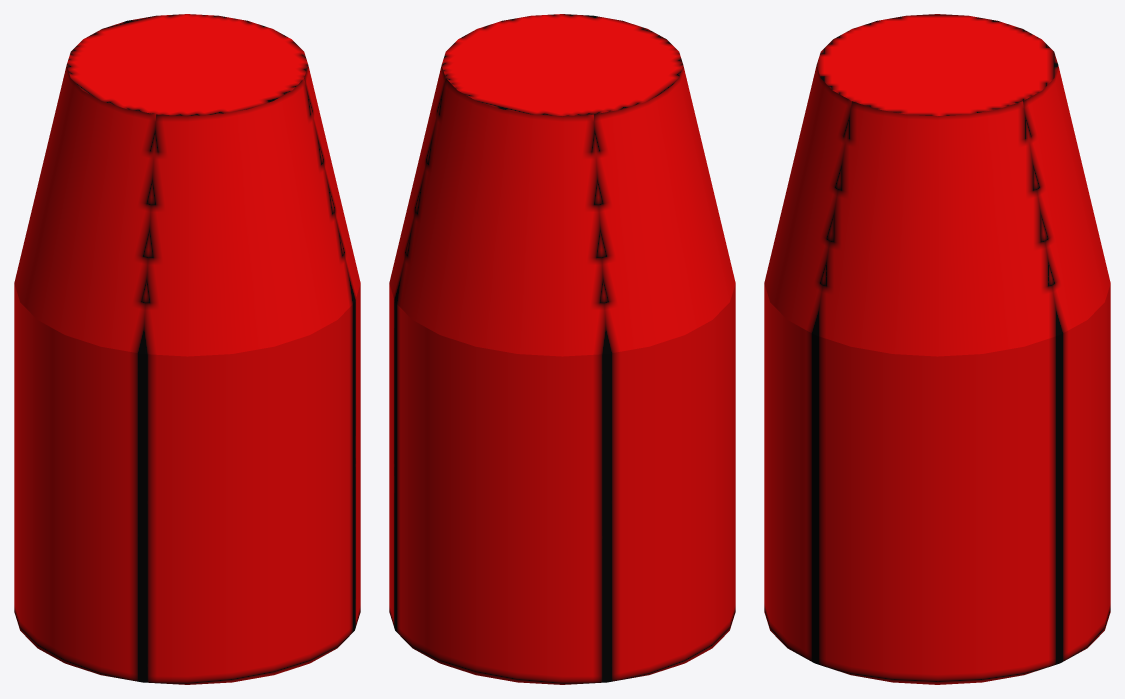
Rendered from Alniyat_Habitation_1_Interior.obj.
3 renders of one model, left to right at view 1: azimuth 30°, elevation 25°; view 2: azimuth 150°, elevation 25°; view 3: azimuth 270°, elevation 25°, orthographic.
Visible parts, largest first — view 1: Alniyat_Habitation_1_Interior; view 2: Alniyat_Habitation_1_Interior; view 3: Alniyat_Habitation_1_Interior.
Boxes of the visible parts, <box> form: Alniyat_Habitation_1_Interior: <box>14,14,360,684</box>; Alniyat_Habitation_1_Interior: <box>389,14,735,684</box>; Alniyat_Habitation_1_Interior: <box>764,14,1110,684</box>.
Bounding box in the file's own units: 1.22 × 2.13 × 1.22.
1 material, 1 textured.
